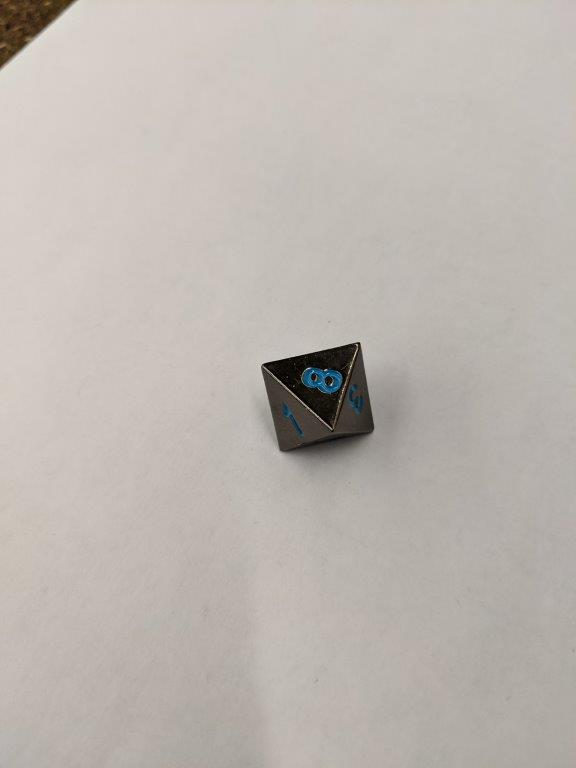d8-8: (261, 339, 375, 457)
